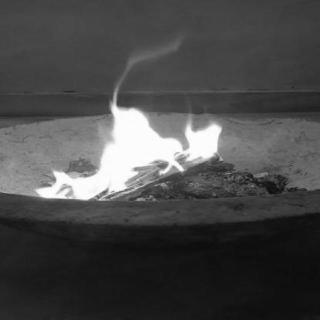Fire: (34, 79, 227, 213)
